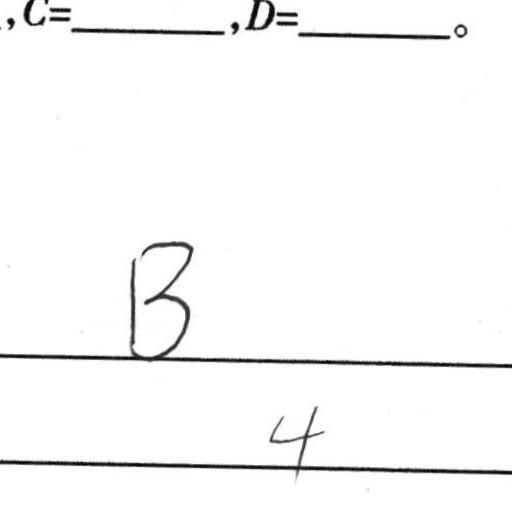ans: (118, 233, 196, 362), (261, 400, 325, 478)
